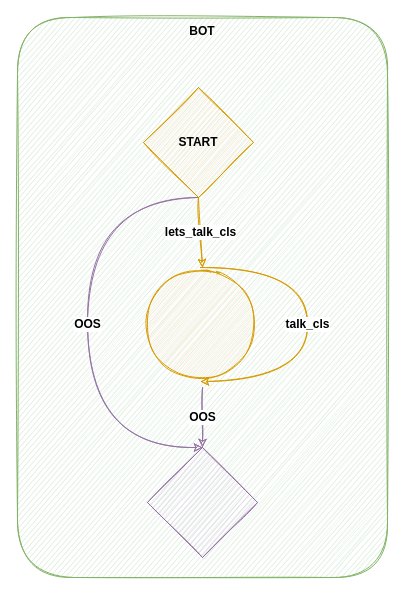
Image size: 405x595. Some labels were removed from this diagram. Here are the shapes that lost their labels. From the top down, the box of each, then its label:
(142, 266, 258, 382): GTP-like model
(146, 446, 258, 558): FALLBACK
